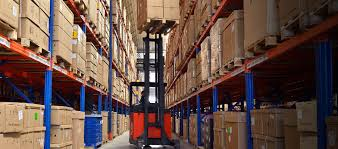Pallet Jack: (123, 15, 185, 149)
